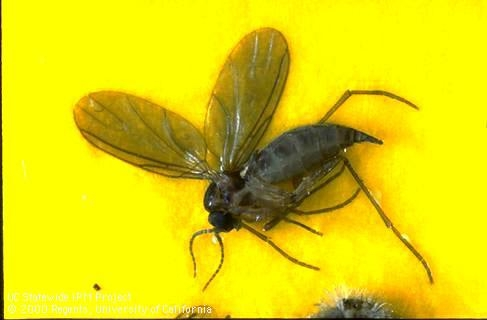Fruit fly: (90, 53, 400, 268)
